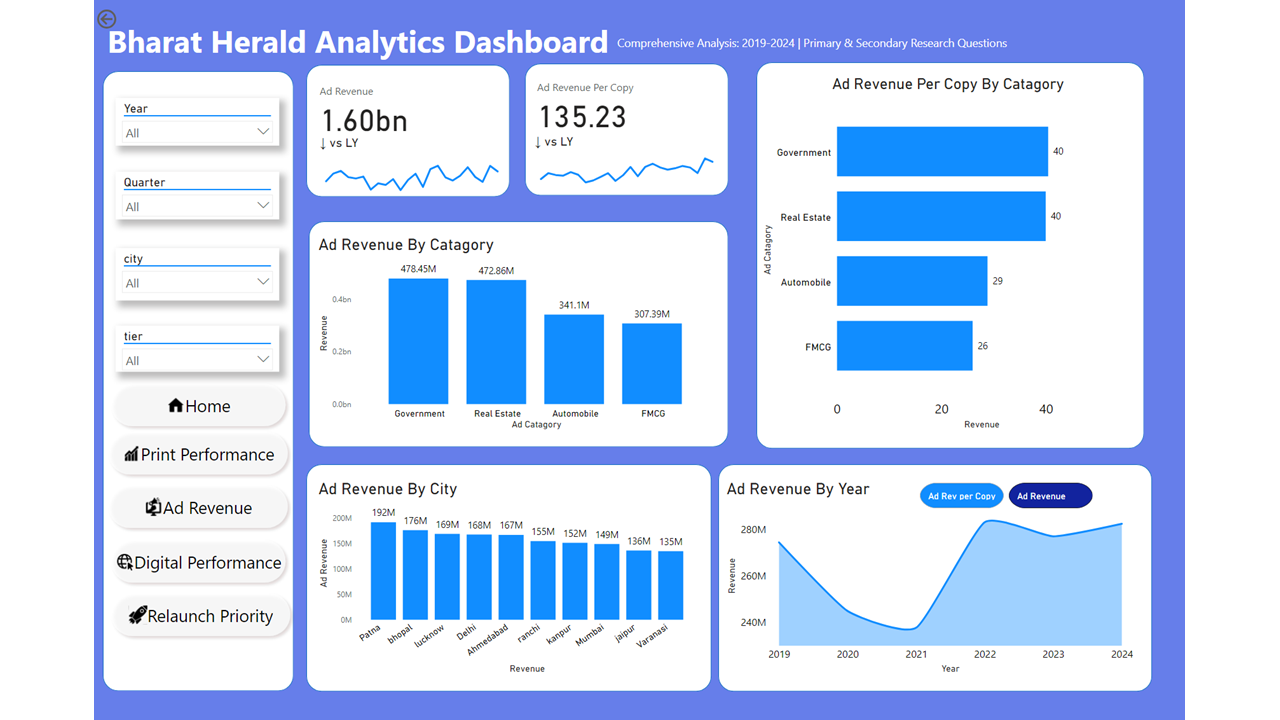

What the dashboard file says about the page in this screenshot:
{"tool":"powerbi","page":{"name":"Ad Revenue ","canvas":[1717,1112],"ordinal":2},"visuals":[{"type":"textbox","box":[15.9,15.9,800,86.4],"z":0},{"type":"shape","box":[15,102.5,300,975],"z":1000},{"type":"shape","box":[337.5,337.5,660,355],"z":2000},{"type":"shape","box":[335,720,637.5,357.5],"z":3000},{"type":"textbox","box":[817.5,40,652.5,37.5],"z":4000},{"type":"shape","box":[335,92.5,320,207.5],"z":5000},{"type":"actionButton","box":[0,0,100,40],"z":6000},{"type":"slicer","title":"Year","fields":{"Values":["Calendar_Bridge.Year"]},"box":[35,145,257.5,75],"z":7000},{"type":"cardVisual","fields":{"Data":["Sum(ad_revenue.ad_revenue)"]},"box":[337.5,107.5,250,112.5],"z":8000},{"type":"lineChart","fields":{"Category":["Calendar_Bridge.Date.Variation.Date Hierarchy.Year","Calendar_Bridge.Date.Variation.Date Hierarchy.Quarter","Calendar_Bridge.Date.Variation.Date Hierarchy.Month","Calendar_Bridge.Date.Variation.Date Hierarchy.Day"],"Y":["Sum(ad_revenue.ad_revenue)"]},"box":[350,202.5,300,95],"z":9000},{"type":"slicer","title":"Year","fields":{"Values":["Calendar_Bridge.Quarter"]},"box":[35,260,257.5,75],"z":10000},{"type":"slicer","title":"Year","fields":{"Values":["city.city"]},"box":[35,380,257.5,82.5],"z":11000},{"type":"slicer","title":"Year","fields":{"Values":["city.tier"]},"box":[35,502.5,257.5,72.5],"z":12000},{"type":"shape","box":[677.5,90,320,207.5],"z":13000},{"type":"lineChart","fields":{"Category":["Calendar_Bridge.Date.Variation.Date Hierarchy.Year","Calendar_Bridge.Date.Variation.Date Hierarchy.Quarter","Calendar_Bridge.Date.Variation.Date Hierarchy.Month","Calendar_Bridge.Date.Variation.Date Hierarchy.Day"],"Y":["ad_revenue.Ad Rev per Copy Printed"]},"box":[687.5,200,300,100],"z":14000},{"type":"cardVisual","fields":{"Data":["ad_revenue.Ad Rev per Copy Printed"]},"box":[687.5,102.5,250,112.5],"z":15000},{"type":"shape","box":[1042.5,87.5,610,607.5],"z":16000},{"type":"shape","box":[982.5,720,682.5,357.5],"z":17000},{"type":"lineChart","title":"Ad Revenue By Year","fields":{"Y":["ad_revenue.Total Rev"],"Category":["Calendar_Bridge.Date.Variation.Date Hierarchy.Year","Calendar_Bridge.Date.Variation.Date Hierarchy.Quarter","Calendar_Bridge.Date.Variation.Date Hierarchy.Month","Calendar_Bridge.Date.Variation.Date Hierarchy.Day"]},"box":[990,745,650,310],"z":18000},{"type":"columnChart","title":"Ad Revenue By City","fields":{"Y":["ad_revenue.Total Rev"],"Category":["city.city"]},"box":[347.5,745,605,310],"z":19000},{"type":"columnChart","title":"Ad Revenue By Catagory","fields":{"Category":["ad_catagory.standard_ad_category"],"Y":["ad_revenue.Total Rev"]},"box":[347.5,360,635,310],"z":20000},{"type":"advancedSlicerVisual","fields":{"Values":["Ad Revenue View.Ad Revenue View "]},"box":[1295,745,282.5,50],"z":21000},{"type":"clusteredBarChart","title":"Ad Revenue Per Copy By Catagory","fields":{"Category":["ad_catagory.standard_ad_category"],"Y":["ad_revenue.Ad Rev per Copy Printed"]},"box":[1047.5,107.5,595,562.5],"z":22000},{"type":"actionButton","box":[17.5,585,292.5,85],"z":23000},{"type":"actionButton","box":[15,660,300,85],"z":24000},{"type":"actionButton","box":[15,745,300,85],"z":25000},{"type":"actionButton","box":[17.5,830,292.5,85],"z":26000},{"type":"actionButton","box":[17.5,915,300,85],"z":27000}]}

Visuals, with their boxes on the page's 1717x1112 design canvas (x1, y1, x2, y2). These are canvas units, not pixel positions in the 1280x720 screenshot, which may show the page scaled, cropped or inside an application window:
textbox: locate(16, 16, 816, 102)
shape: locate(15, 102, 315, 1078)
shape: locate(338, 338, 998, 692)
shape: locate(335, 720, 972, 1078)
textbox: locate(818, 40, 1470, 78)
shape: locate(335, 92, 655, 300)
actionButton: locate(0, 0, 100, 40)
"Year" slicer: locate(35, 145, 292, 220)
cardVisual - Sum(ad_revenue.ad_revenue): locate(338, 108, 588, 220)
lineChart - Calendar_Bridge.Date.Variation.Date Hierarchy.Year x Calendar_Bridge.Date.Variation.Date Hierarchy.Quarter: locate(350, 202, 650, 298)
"Year" slicer: locate(35, 260, 292, 335)
"Year" slicer: locate(35, 380, 292, 462)
"Year" slicer: locate(35, 502, 292, 575)
shape: locate(678, 90, 998, 298)
lineChart - Calendar_Bridge.Date.Variation.Date Hierarchy.Year x Calendar_Bridge.Date.Variation.Date Hierarchy.Quarter: locate(688, 200, 988, 300)
cardVisual - ad_revenue.Ad Rev per Copy Printed: locate(688, 102, 938, 215)
shape: locate(1042, 88, 1652, 695)
shape: locate(982, 720, 1665, 1078)
"Ad Revenue By Year" lineChart: locate(990, 745, 1640, 1055)
"Ad Revenue By City" columnChart: locate(348, 745, 952, 1055)
"Ad Revenue By Catagory" columnChart: locate(348, 360, 982, 670)
advancedSlicerVisual - Ad Revenue View.Ad Revenue View : locate(1295, 745, 1578, 795)
"Ad Revenue Per Copy By Catagory" clusteredBarChart: locate(1048, 108, 1642, 670)
actionButton: locate(18, 585, 310, 670)
actionButton: locate(15, 660, 315, 745)
actionButton: locate(15, 745, 315, 830)
actionButton: locate(18, 830, 310, 915)
actionButton: locate(18, 915, 318, 1000)
